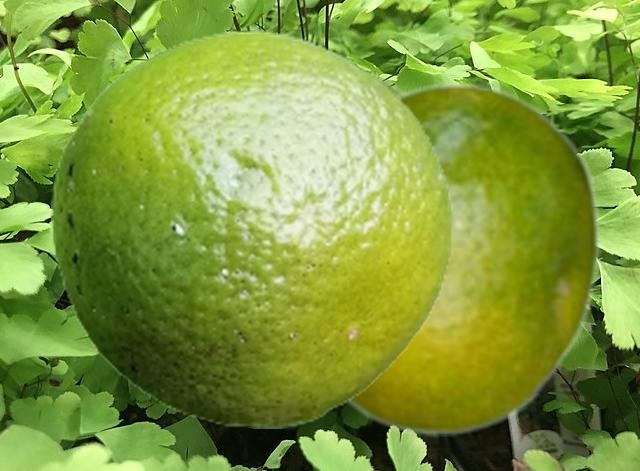calamansi: (51, 29, 451, 427), (347, 80, 600, 435)
